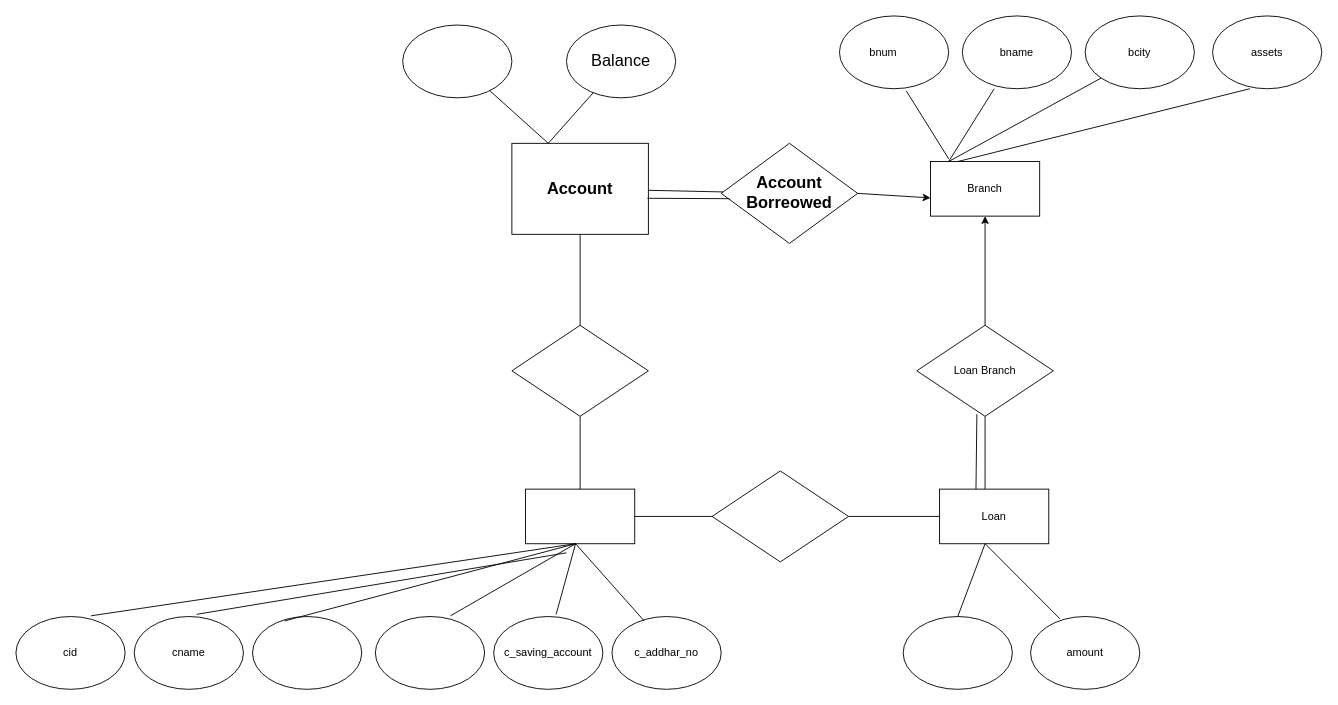
Some shapes in this 1338 by 705 pixel diagram are drawn without their labels. The centre of each missing label's shape, as x and y in pixels:
"account_no" goes at (x=457, y=61).
"Borrower" goes at (x=780, y=516).
"c_address" goes at (x=307, y=652).
"Customer" goes at (x=580, y=516).
"Depositer" goes at (x=579, y=370).
"Loan_no" goes at (x=957, y=652).
"phone" goes at (x=429, y=652).
